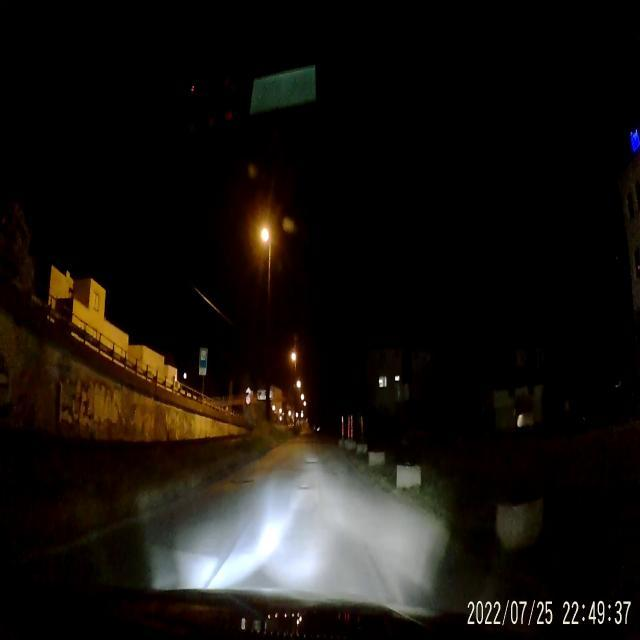Pothole: (226, 476, 253, 488), (297, 479, 315, 496), (302, 456, 324, 468)
